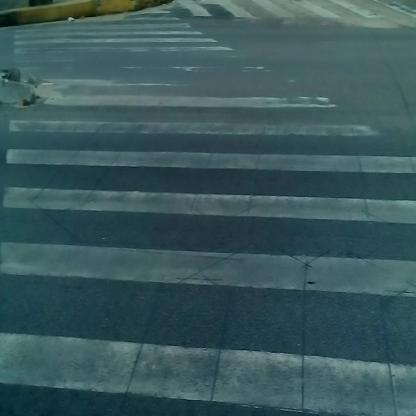crosswalk: (9, 77, 415, 416), (10, 21, 230, 79), (188, 1, 387, 28)
